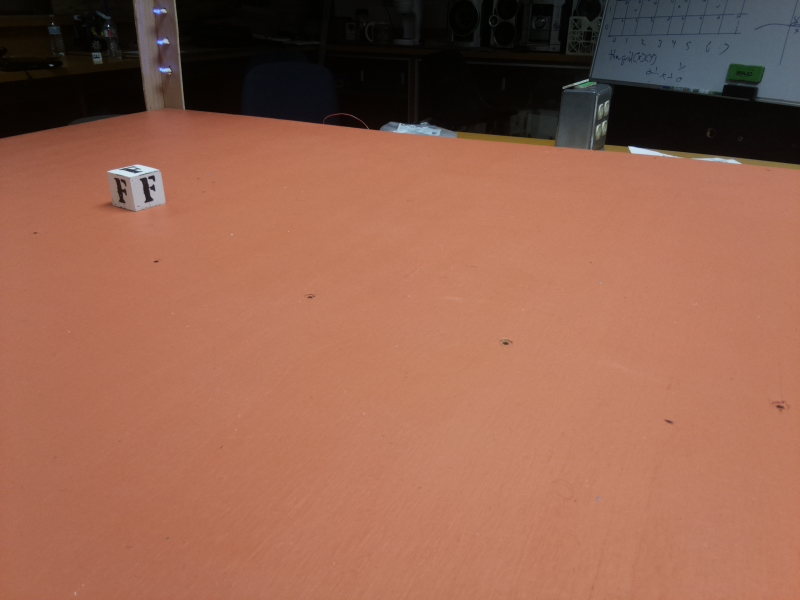blockF: (108, 161, 166, 213)
corner: (136, 1, 183, 117)
